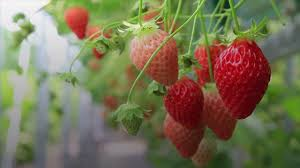ripe: (215, 36, 276, 120), (154, 68, 212, 127), (199, 77, 239, 146), (188, 33, 228, 84), (163, 116, 201, 164), (61, 8, 91, 41)
unripe: (124, 21, 182, 89), (191, 130, 221, 166), (117, 102, 140, 134)
